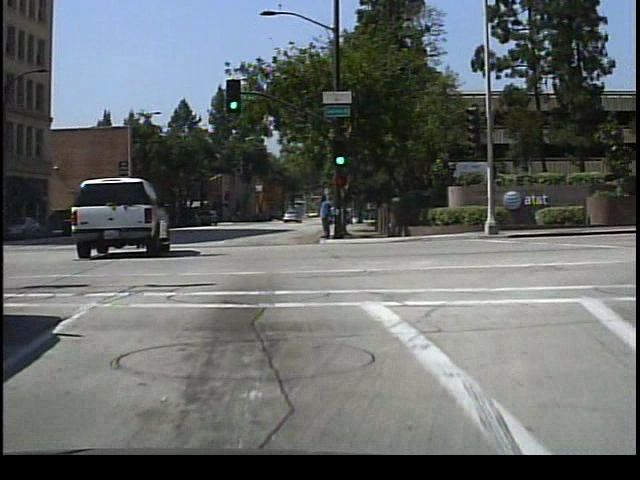person: (314, 188, 336, 240), (320, 193, 338, 238)
